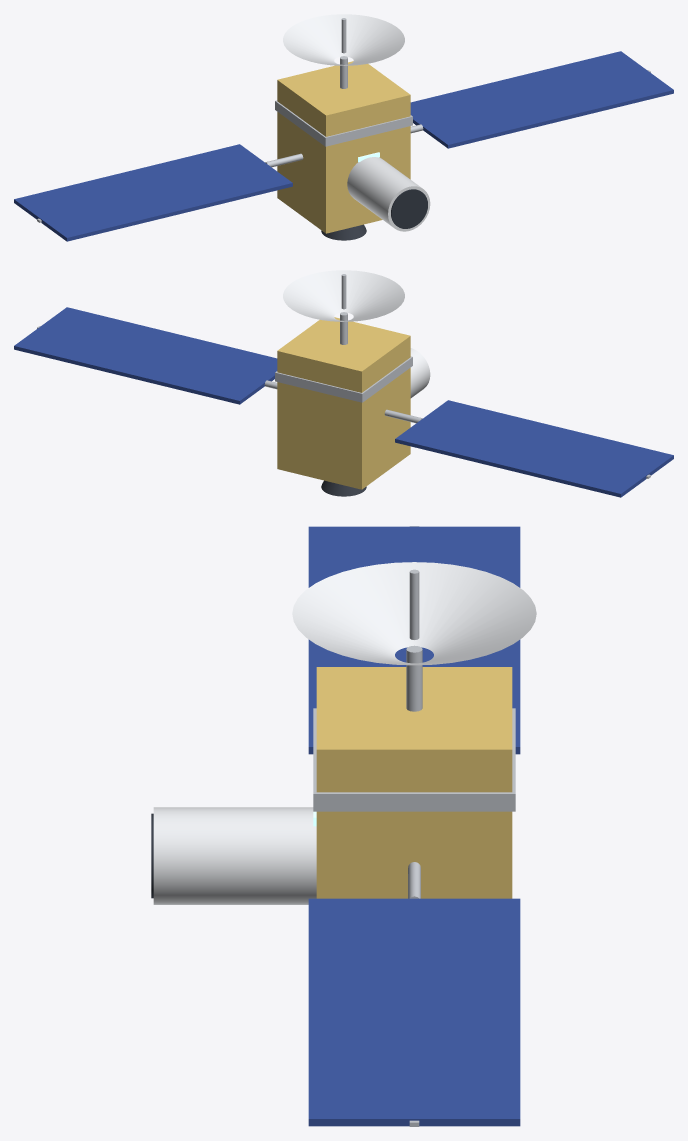
The model's file is probe_placeholder.glb.
3 views of the same model, one above another, from view 1: azimuth 30°, elevation 25°; view 2: azimuth 150°, elevation 25°; view 3: azimuth 270°, elevation 25° (orthographic). The views are drawn at different scales.
Visible parts, largest first — view 1: part_body, part_solar_left, part_solar_right, part_antenna_dish, part_instrument_tube, part_body_band, part_instrument_aperture, part_thruster; view 2: part_body, part_solar_left, part_solar_right, part_antenna_dish, part_body_band, part_instrument_tube, part_thruster; view 3: part_solar_right, part_body, part_antenna_dish, part_instrument_tube, part_solar_left, part_body_band, part_antenna_mast.
Part boxes in pixels (left/top/right/bottom): part_body: left=277, top=61, right=410, bottom=233; part_solar_left: left=14, top=144, right=292, bottom=241; part_solar_right: left=410, top=51, right=673, bottom=148; part_antenna_dish: left=283, top=14, right=404, bottom=65; part_instrument_tube: left=347, top=157, right=430, bottom=231; part_body_band: left=275, top=100, right=412, bottom=146; part_instrument_aperture: left=391, top=189, right=427, bottom=228; part_thruster: left=321, top=224, right=366, bottom=240; part_body: left=277, top=317, right=410, bottom=489; part_solar_left: left=395, top=400, right=673, bottom=497; part_solar_right: left=14, top=307, right=277, bottom=404; part_antenna_dish: left=283, top=270, right=404, bottom=321; part_body_band: left=275, top=356, right=412, bottom=402; part_instrument_tube: left=410, top=348, right=430, bottom=398; part_thruster: left=321, top=480, right=366, bottom=496; part_solar_right: left=308, top=898, right=520, bottom=1126; part_body: left=316, top=667, right=512, bottom=898; part_antenna_dish: left=292, top=562, right=536, bottom=665; part_instrument_tube: left=153, top=807, right=316, bottom=904; part_solar_left: left=308, top=526, right=520, bottom=754; part_body_band: left=313, top=708, right=515, bottom=811; part_antenna_mast: left=406, top=645, right=422, bottom=711.
Bounding box in the file's own units: 8.66 × 2.87 × 2.36.
